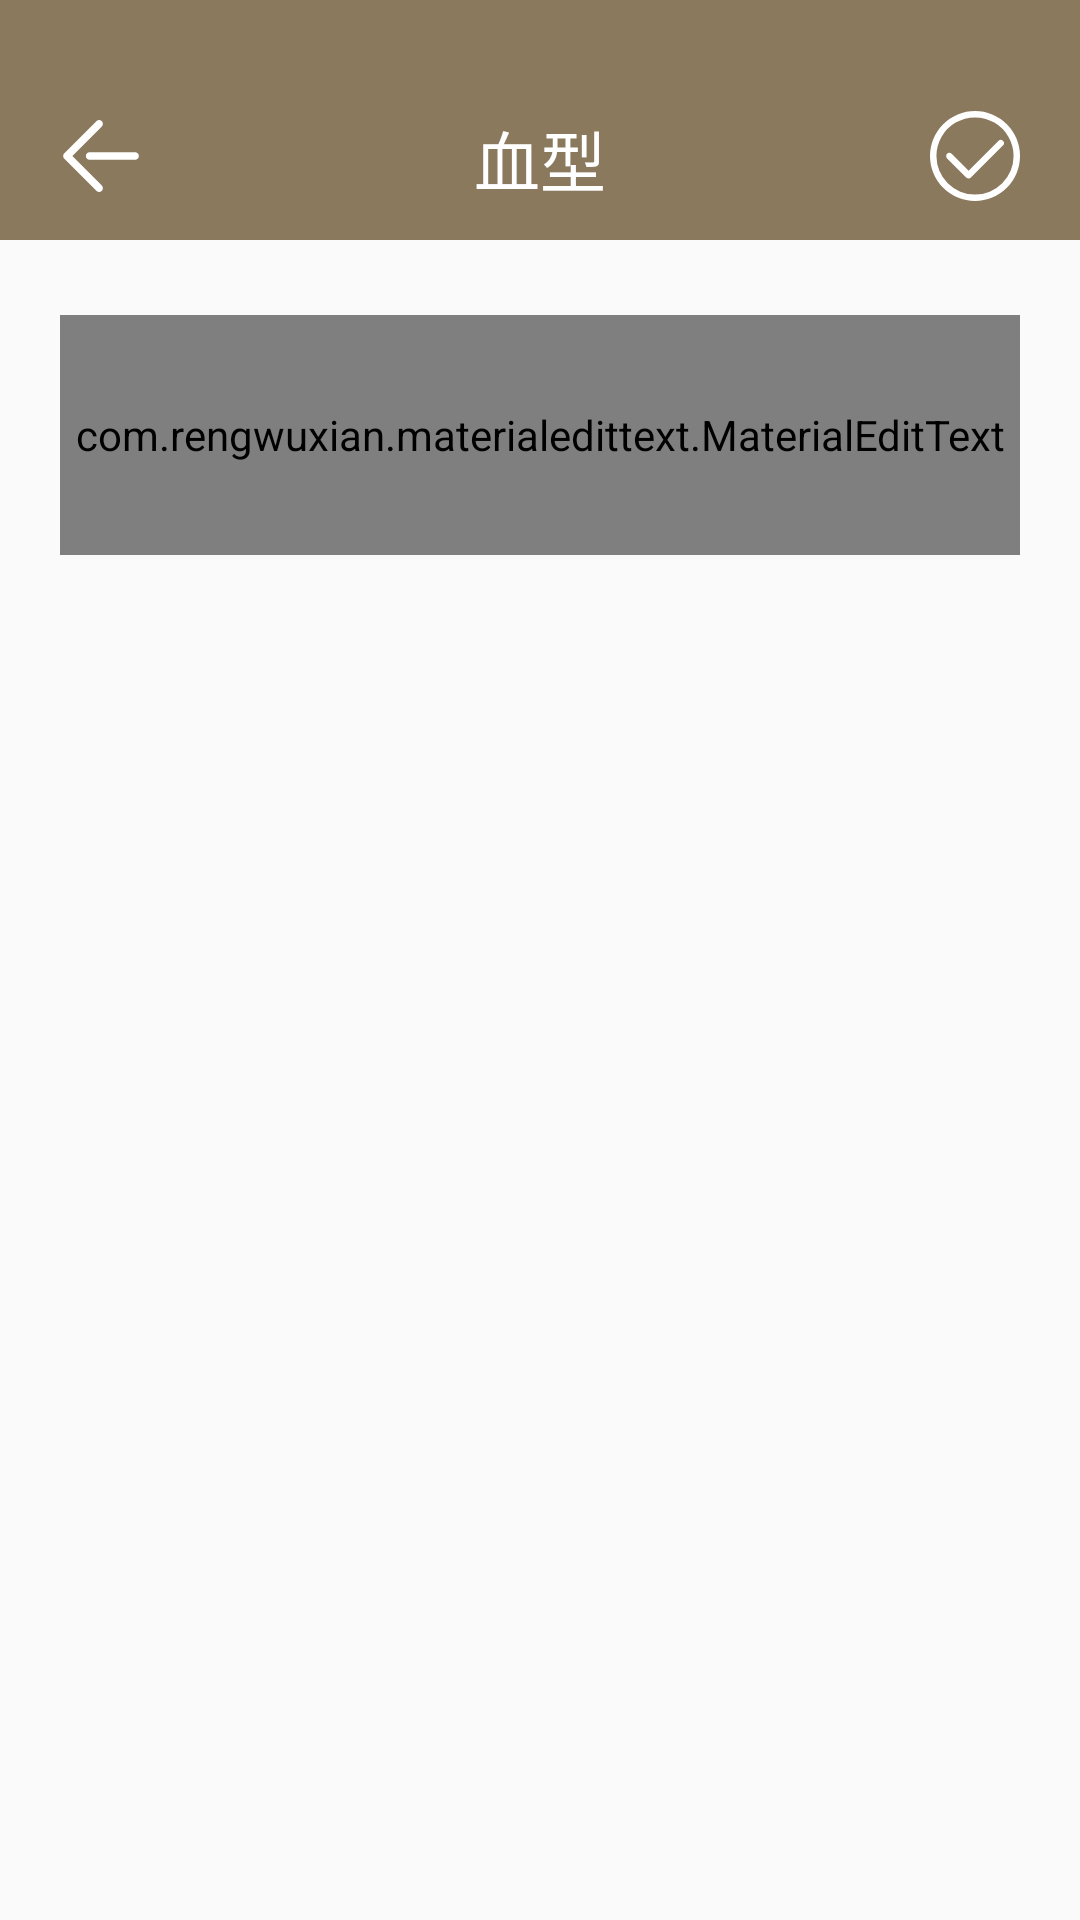

Icon bounding boxes for this 1080 × 1920 phone screenshot, format (x1, y1, x2, y2):
back: (63, 120, 139, 192)
save: (930, 111, 1020, 201)
